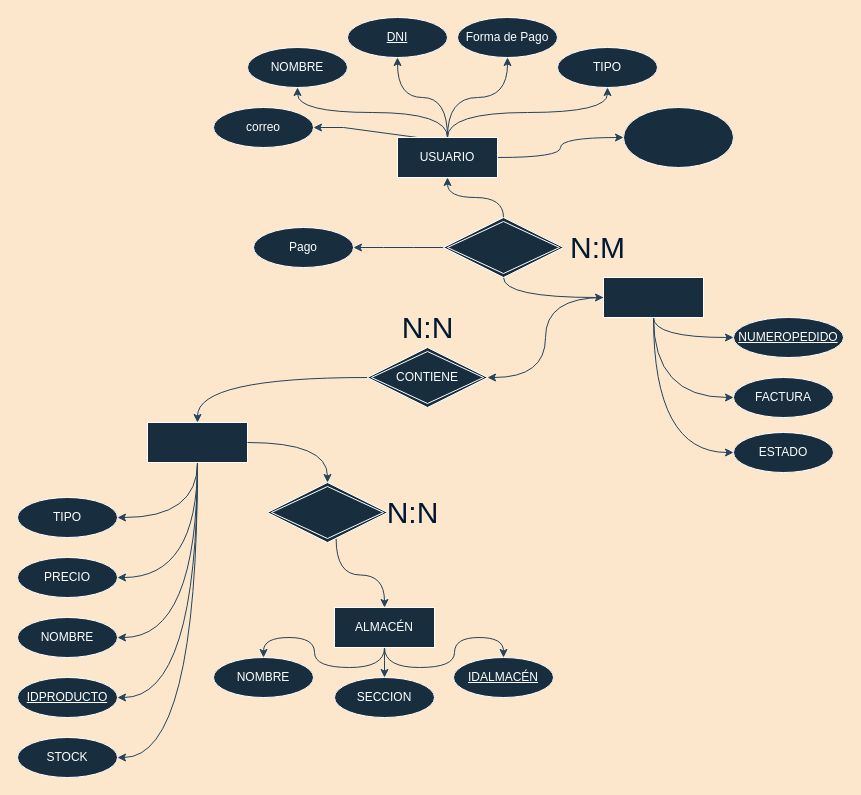
This 861x795 diagram has some shape labels left out. The centre of each missing label's shape, as x and y in pixels:
ALMACENA: the point at 327,512
CONTRASEÑA: the point at 678,137
PEDIDO: the point at 653,297
PRODUCTO: the point at 197,442
REALIZAN: the point at 503,247
